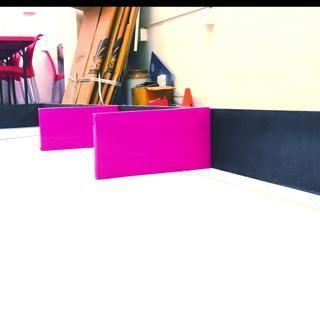xparking: (94, 106, 210, 179), (37, 106, 91, 152)
